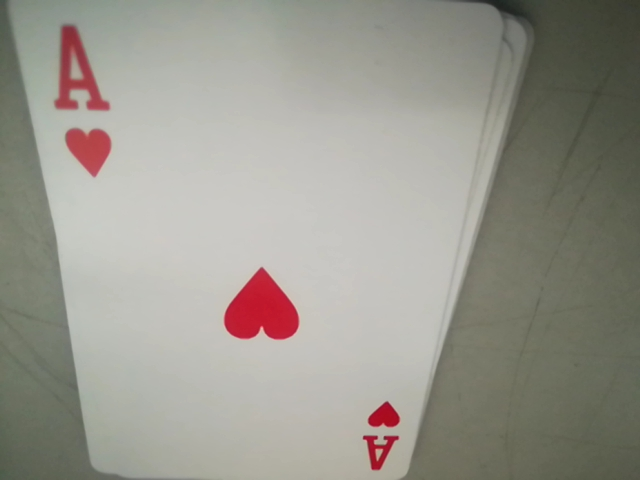hx a: (355, 405, 408, 468)
